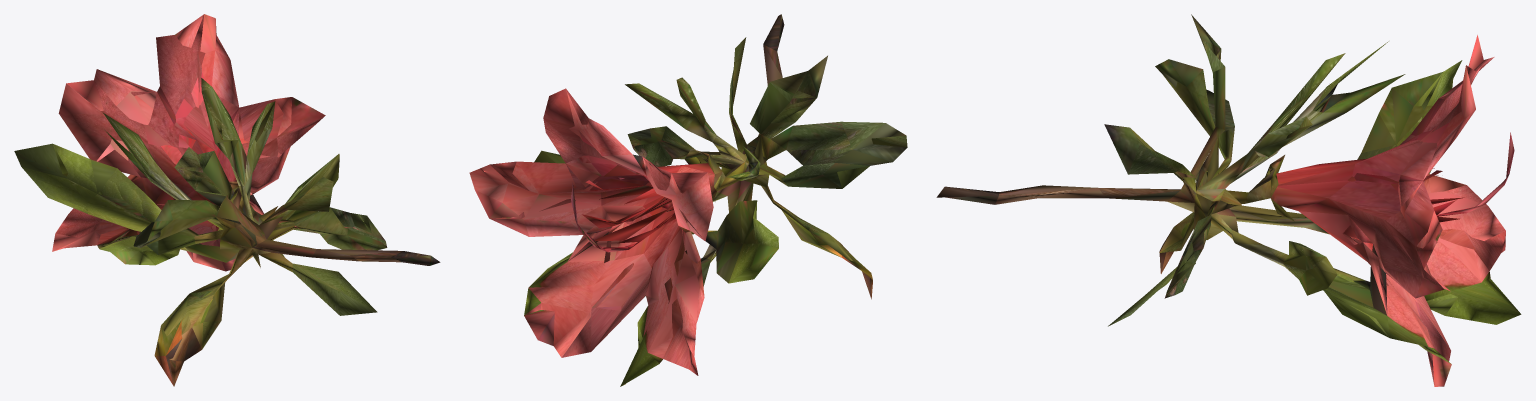
Rendered from red_azalea_lod1.glb.
3 views of the same model, side by side, from view 1: azimuth 30°, elevation 25°; view 2: azimuth 150°, elevation 25°; view 3: azimuth 270°, elevation 25° (orthographic). The views are drawn at different scales.
Parts seen in each view (by area): view 1: AzaleaSprig; view 2: AzaleaSprig; view 3: AzaleaSprig.
Part boxes in pixels (x1,y1,x2,y2): AzaleaSprig: (14, 14, 440, 386); AzaleaSprig: (469, 14, 907, 386); AzaleaSprig: (936, 14, 1521, 386).
Size of the model in its own units: 0.0828 by 0.068 by 0.1149.
2 materials, 2 textured.
